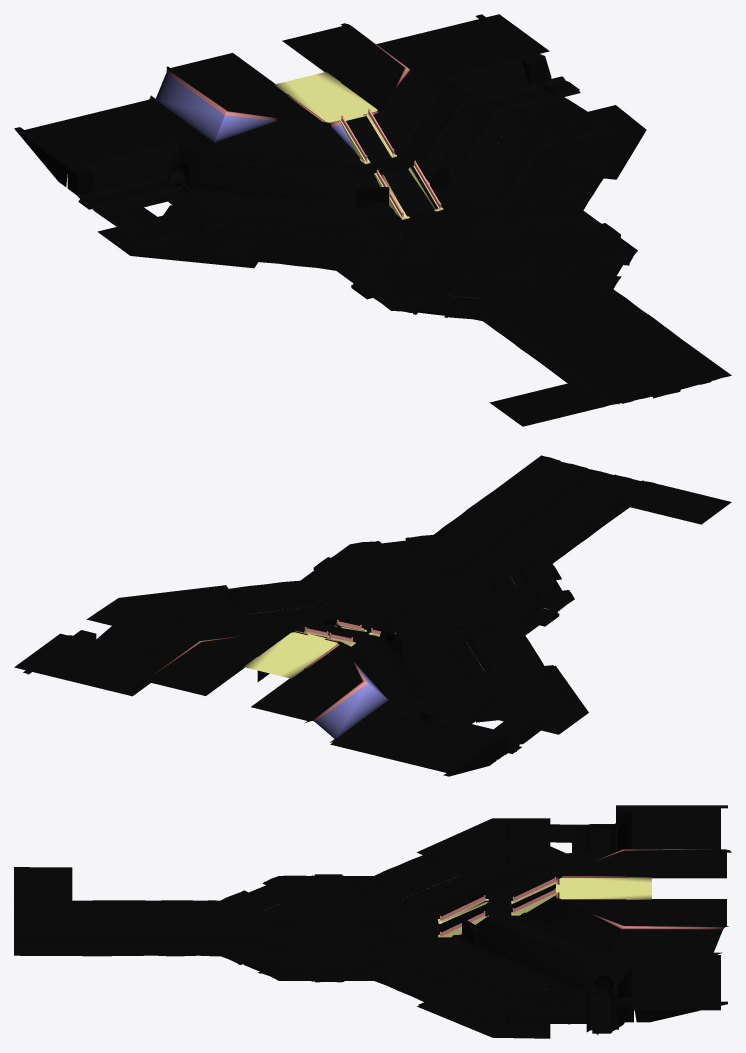
File: COL_SM_ENV_KNVLLG03_Ground_All.gltf
3 views of the same model, one above another, from view 1: azimuth 30°, elevation 25°; view 2: azimuth 150°, elevation 25°; view 3: azimuth 270°, elevation 25° (orthographic). The views are drawn at different scales.
Visible parts, largest first — view 1: COL_SM_ENV_KNVLLG03_Ground_All; view 2: COL_SM_ENV_KNVLLG03_Ground_All; view 3: COL_SM_ENV_KNVLLG03_Ground_All.
Part boxes in pixels (box(x1,y1,x2,y2)): COL_SM_ENV_KNVLLG03_Ground_All: box(14, 14, 731, 426); COL_SM_ENV_KNVLLG03_Ground_All: box(14, 455, 731, 776); COL_SM_ENV_KNVLLG03_Ground_All: box(14, 805, 731, 1038).
Bounding box in the file's own units: 143 × 16.47 × 196.
